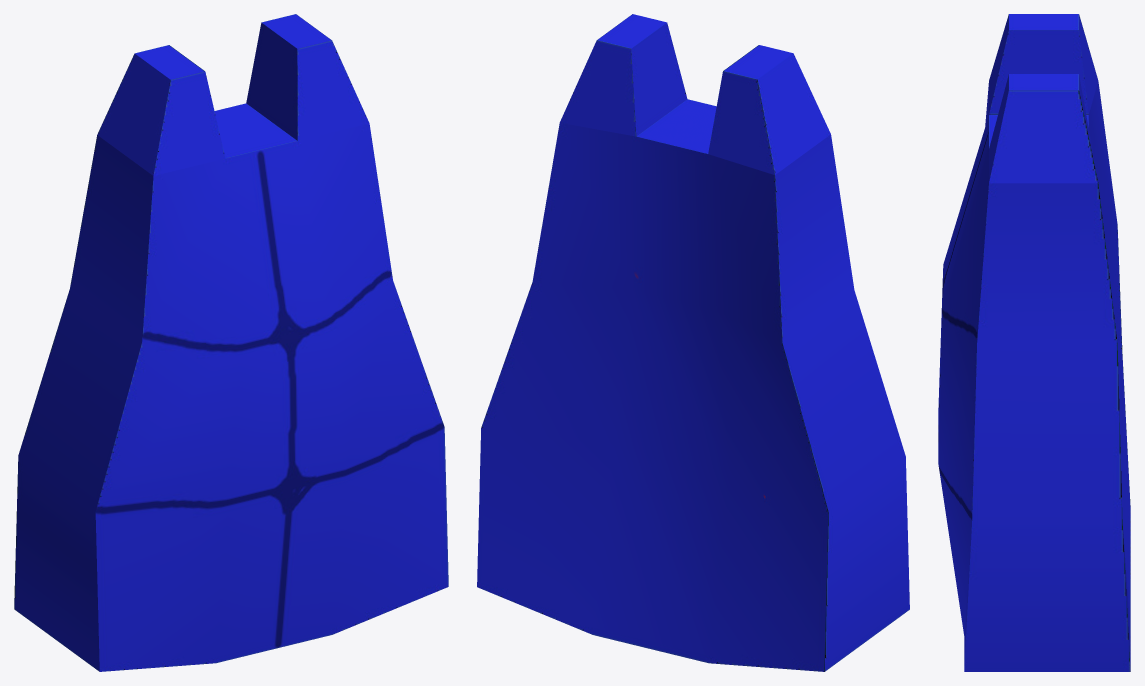
Rendered from armorIcon.FBX.
3 renders of one model, left to right at view 1: azimuth 30°, elevation 25°; view 2: azimuth 150°, elevation 25°; view 3: azimuth 270°, elevation 25°, orthographic. The views are drawn at different scales.
Visible parts, largest first — view 1: Box001; view 2: Box001; view 3: Box001.
Boxes of the visible parts, x1,y1,x2,y2 form: Box001: (14, 14, 448, 671); Box001: (477, 14, 909, 671); Box001: (938, 14, 1130, 671).
Size of the model in its own units: 19.05 by 29.83 by 9.34.
